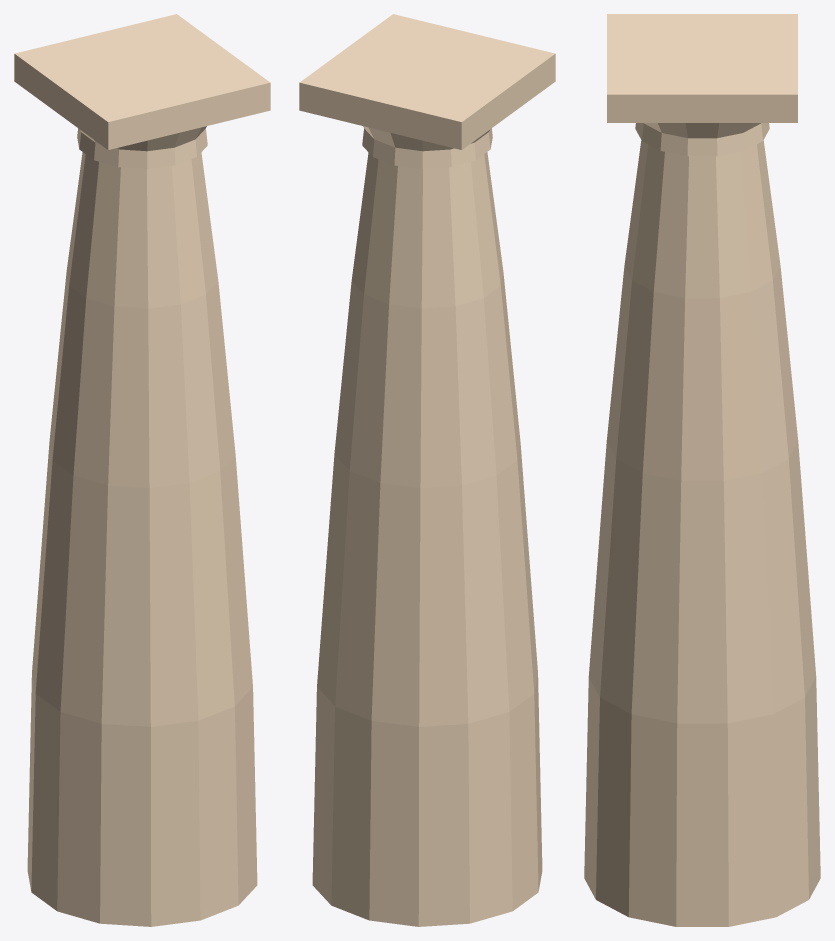
Rendered from ChonkGreekPillars.fbx.
3 renders of one model, left to right at view 1: azimuth 30°, elevation 25°; view 2: azimuth 150°, elevation 25°; view 3: azimuth 270°, elevation 25°, orthographic.
Visible parts, largest first — view 1: Säule_top; view 2: Säule_top; view 3: Säule_top.
Part boxes in pixels (bbox=[...]): Säule_top: bbox=[14, 14, 270, 926]; Säule_top: bbox=[299, 14, 555, 926]; Säule_top: bbox=[584, 14, 820, 926].
Size of the model in its own units: 254 by 1000 by 260.
